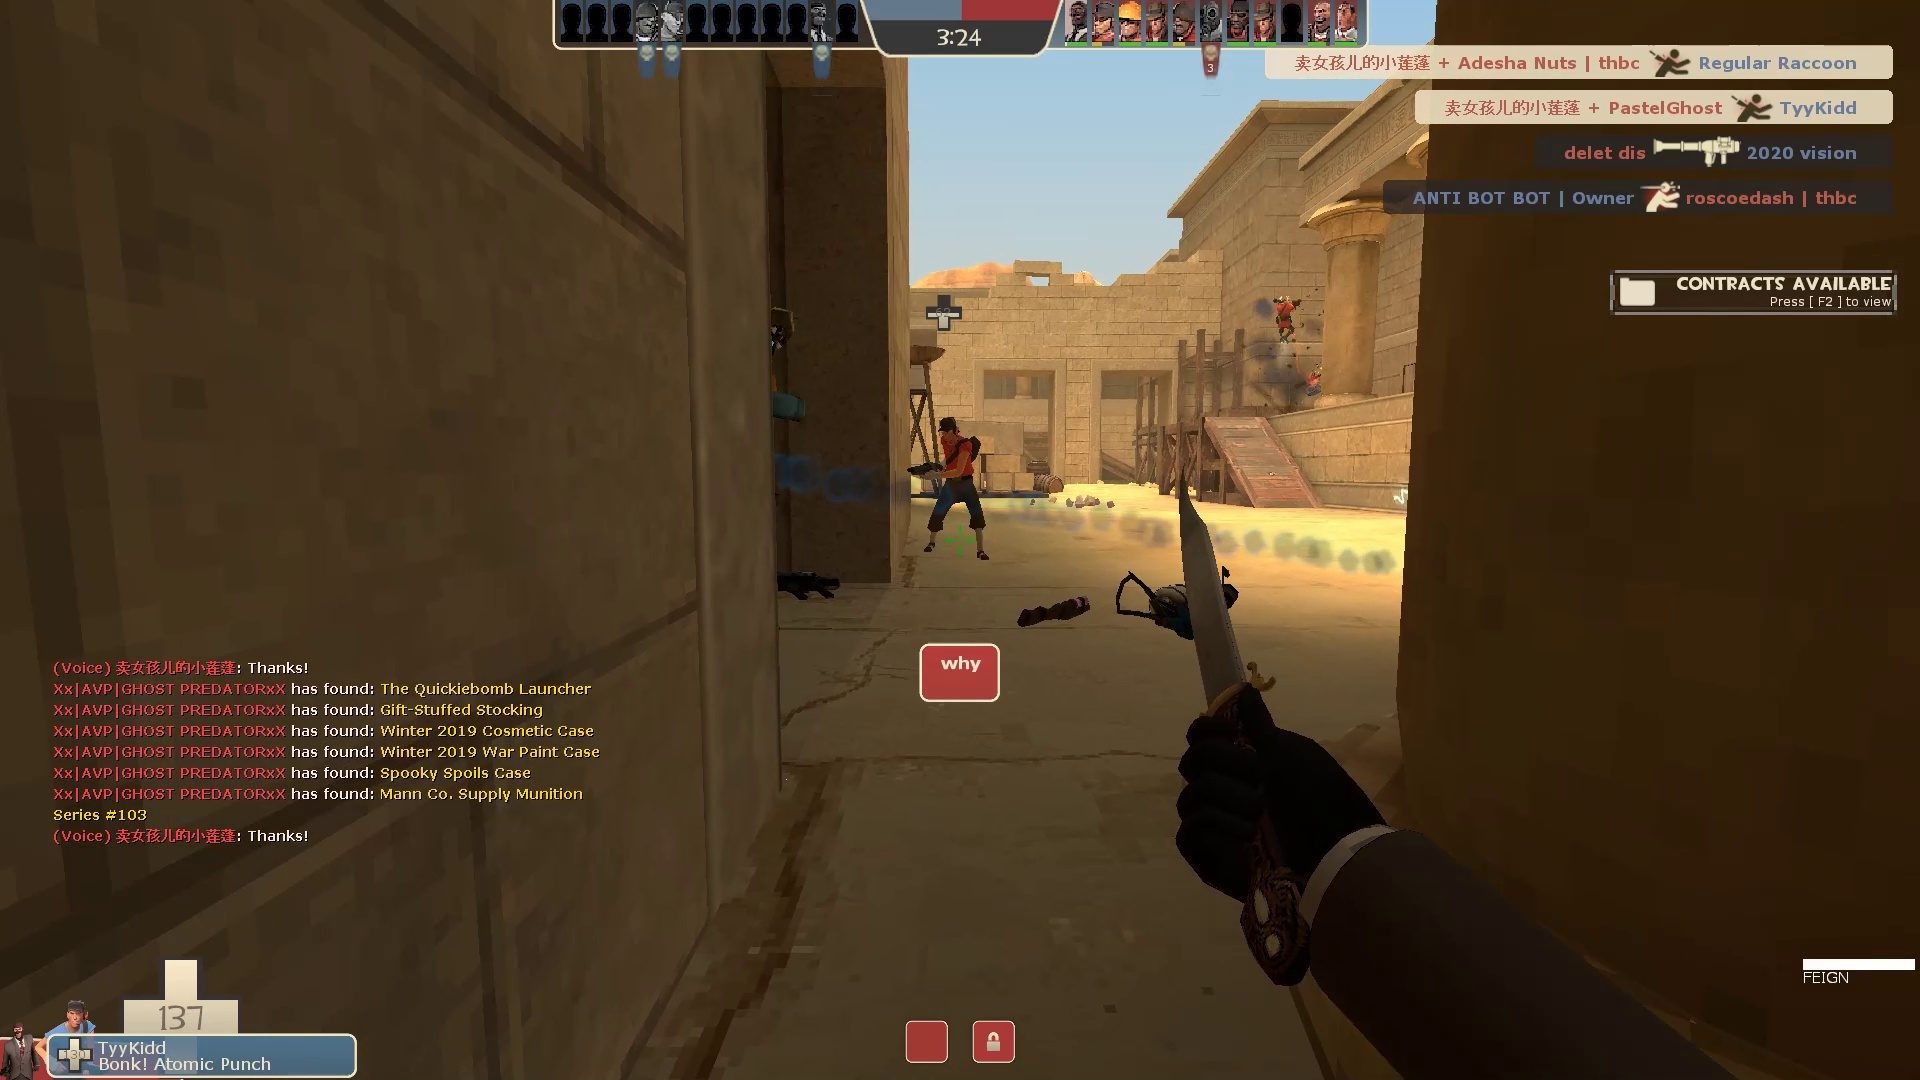red_scout: (909, 410, 1000, 570)
red_soldier: (1271, 295, 1304, 345)
